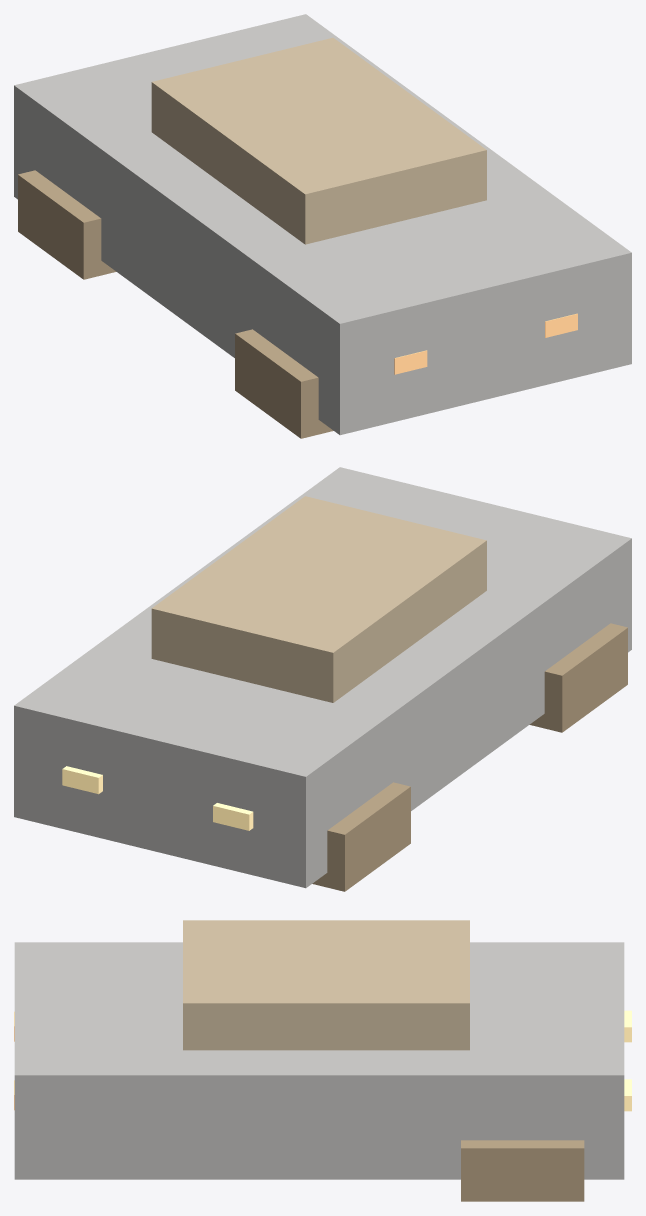
File: player-car.gltf
3 views of the same model, one above another, from view 1: azimuth 30°, elevation 25°; view 2: azimuth 150°, elevation 25°; view 3: azimuth 270°, elevation 25° (orthographic). The views are drawn at different scales.
Parts seen in each view (by area): view 1: Body, Cabin, WheelRearLeft, WheelFrontLeft, RearLightLeft; view 2: Body, Cabin, WheelFrontLeft, WheelRearLeft, LightRight, LightLeft; view 3: Body, Cabin, WheelFrontRight.
Part boxes in pixels (x1,y1,x2,y2): Body: (14, 14, 631, 435); Cabin: (151, 37, 486, 244); WheelRearLeft: (235, 329, 333, 438); WheelFrontLeft: (18, 170, 116, 279); RearLightLeft: (394, 350, 427, 374); Body: (14, 467, 631, 888); Cabin: (151, 496, 486, 702); WheelFrontLeft: (312, 782, 410, 891); WheelRearLeft: (529, 623, 627, 732); LightRight: (62, 766, 102, 794); LightLeft: (213, 803, 253, 830); Body: (14, 942, 624, 1179); Cabin: (183, 920, 469, 1050); WheelFrontRight: (461, 1140, 584, 1201).
Size of the model in its own units: 2.52 by 1.3 by 4.41.
